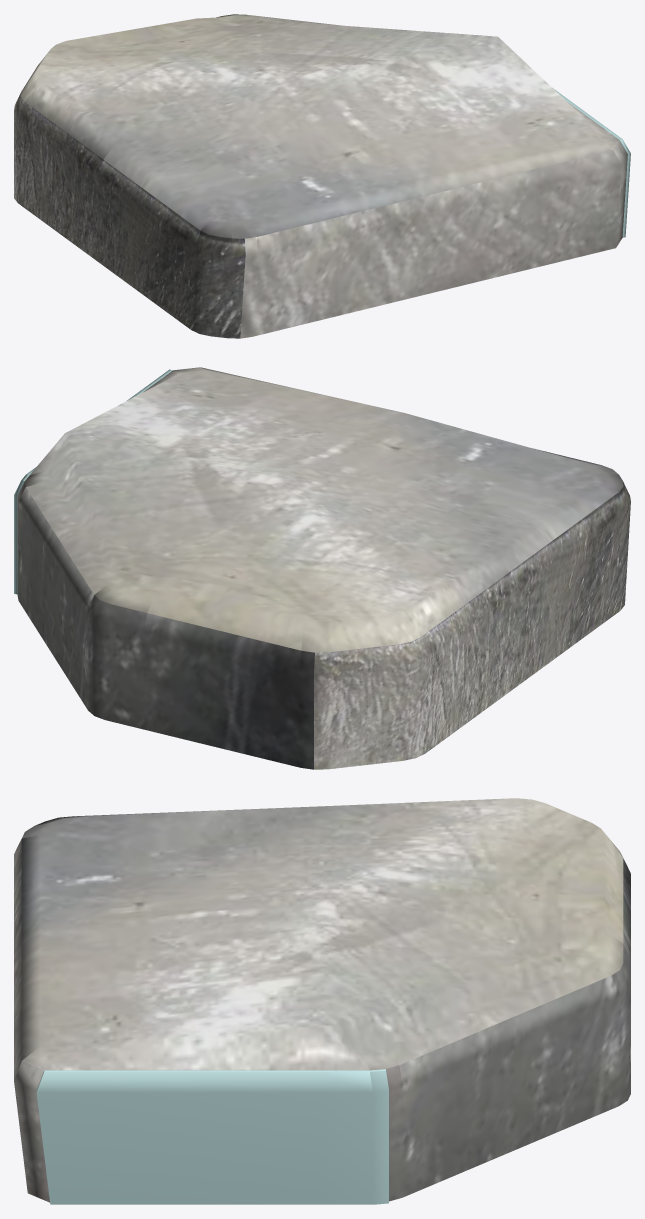
Rendered from magnesium_oxidation.fbx.
3 views of the same model, one above another, from view 1: azimuth 30°, elevation 25°; view 2: azimuth 150°, elevation 25°; view 3: azimuth 270°, elevation 25° (orthographic). The views are drawn at different scales.
Parts seen in each view (by area): view 1: polySurface3, oxidation1; view 2: polySurface3, oxidation1; view 3: polySurface3, oxidation1.
Boxes of the visible parts, <box> form: polySurface3: <box>14,14,627,338</box>; oxidation1: <box>553,88,630,237</box>; polySurface3: <box>17,367,630,769</box>; oxidation1: <box>14,369,172,594</box>; polySurface3: <box>14,798,630,1202</box>; oxidation1: <box>36,1069,388,1204</box>.
Bounding box in the file's own units: 12.35 × 3.73 × 12.25.
Materials: 2 (1 with a texture image).
